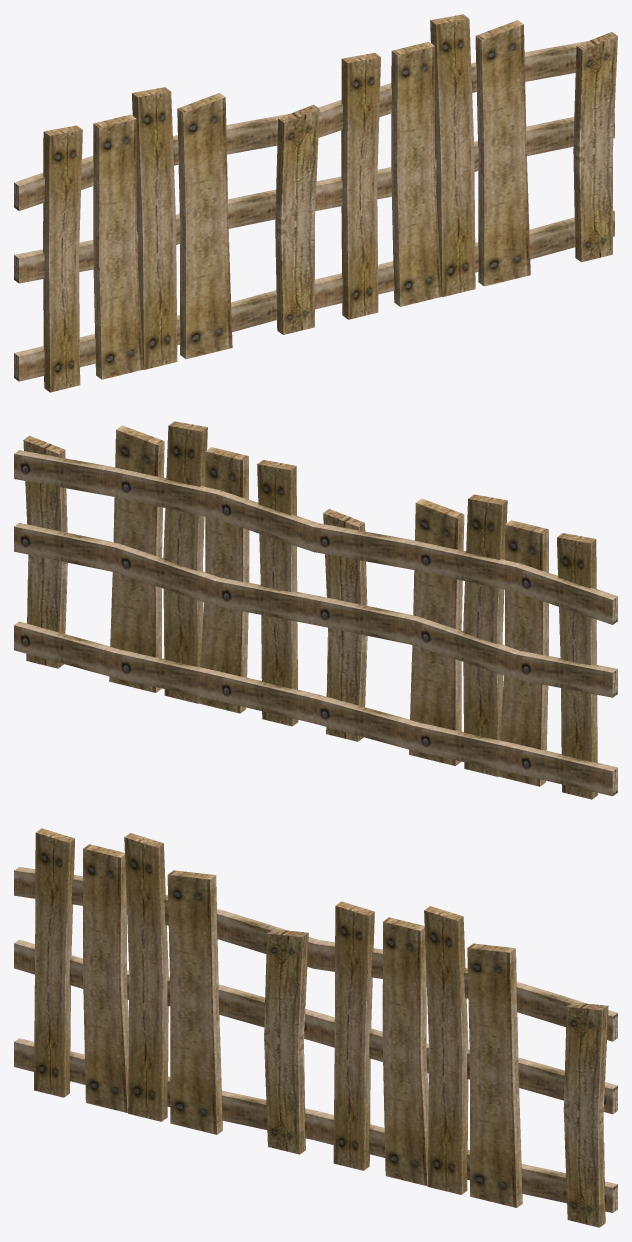
The model's file is zhalan_01.FBX.
3 views of the same model, one above another, from view 1: azimuth 30°, elevation 25°; view 2: azimuth 150°, elevation 25°; view 3: azimuth 330°, elevation 25° (orthographic).
Parts seen in each view (by area): view 1: KIN_N_mulangan_003; view 2: KIN_N_mulangan_003; view 3: KIN_N_mulangan_003.
Boxes of the visible parts, x1,y1,x2,y2 form: KIN_N_mulangan_003: (14,14,617,392); KIN_N_mulangan_003: (14,421,617,799); KIN_N_mulangan_003: (14,828,617,1227).
Size of the model in its own units: 2 by 0.8759 by 0.0686.
